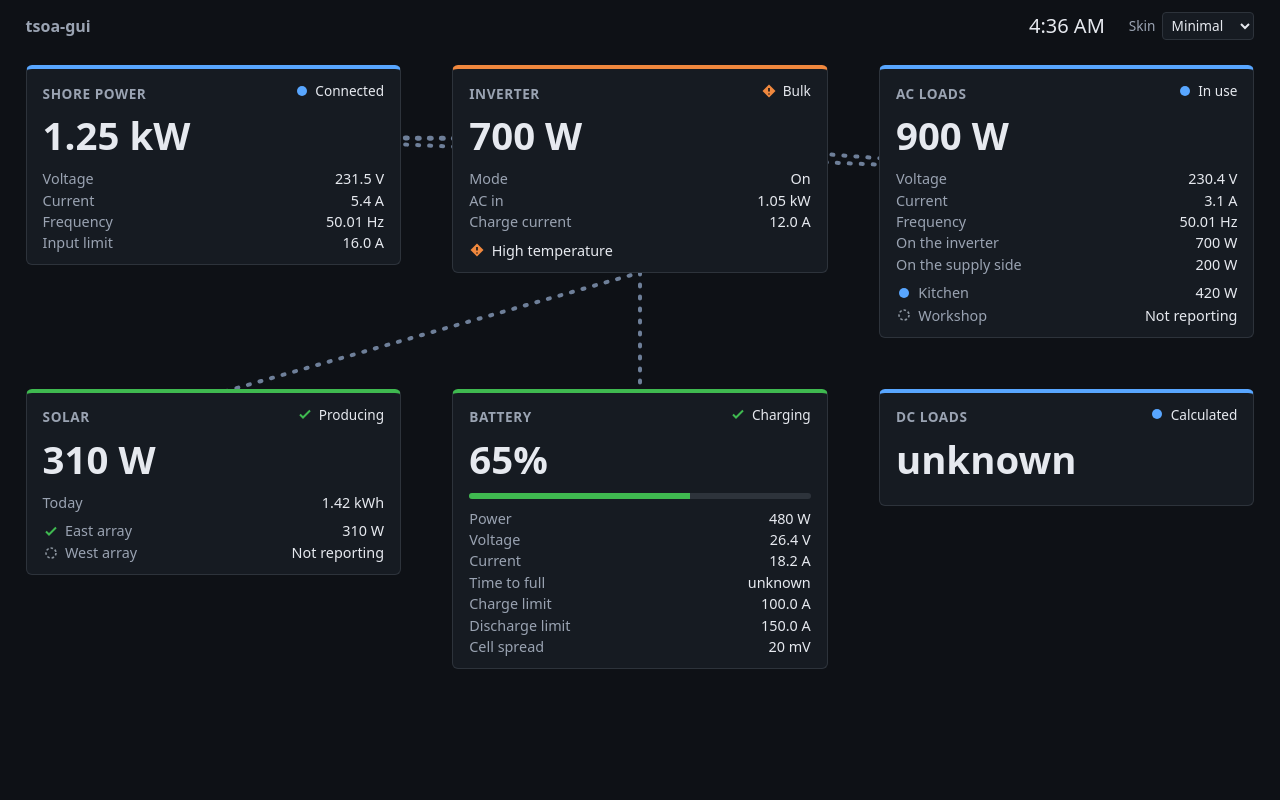
Test case: App › moves the name, the clock and the skin choice into a framed skin's own frame, and switches back from there
The image size is (1280, 800).
Select "Sci-Fi FOF" in the dropdown labelled "Skin": (1208, 26) [1162,12,1254,40]
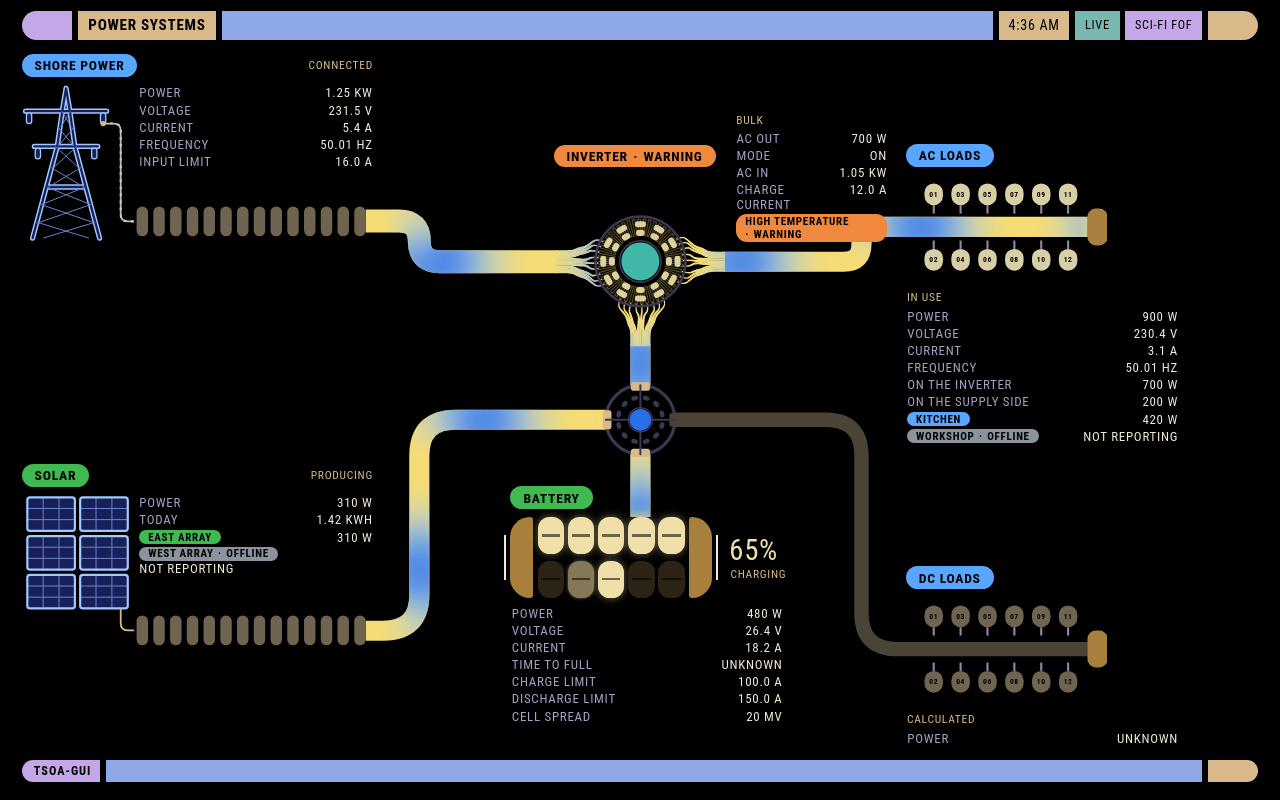
Result: the button with aria-label "Skin: Sci-Fi FOF" reads "Sci-Fi FOF"
Result: the label "Skin" is gone
Result: the number of headings "tsoa-gui" is 1 at [22,760,100,782]
Press ArrowDown in the button with aria-label "Skin: Sci-Fi FOF", box [1125,11,1202,40]
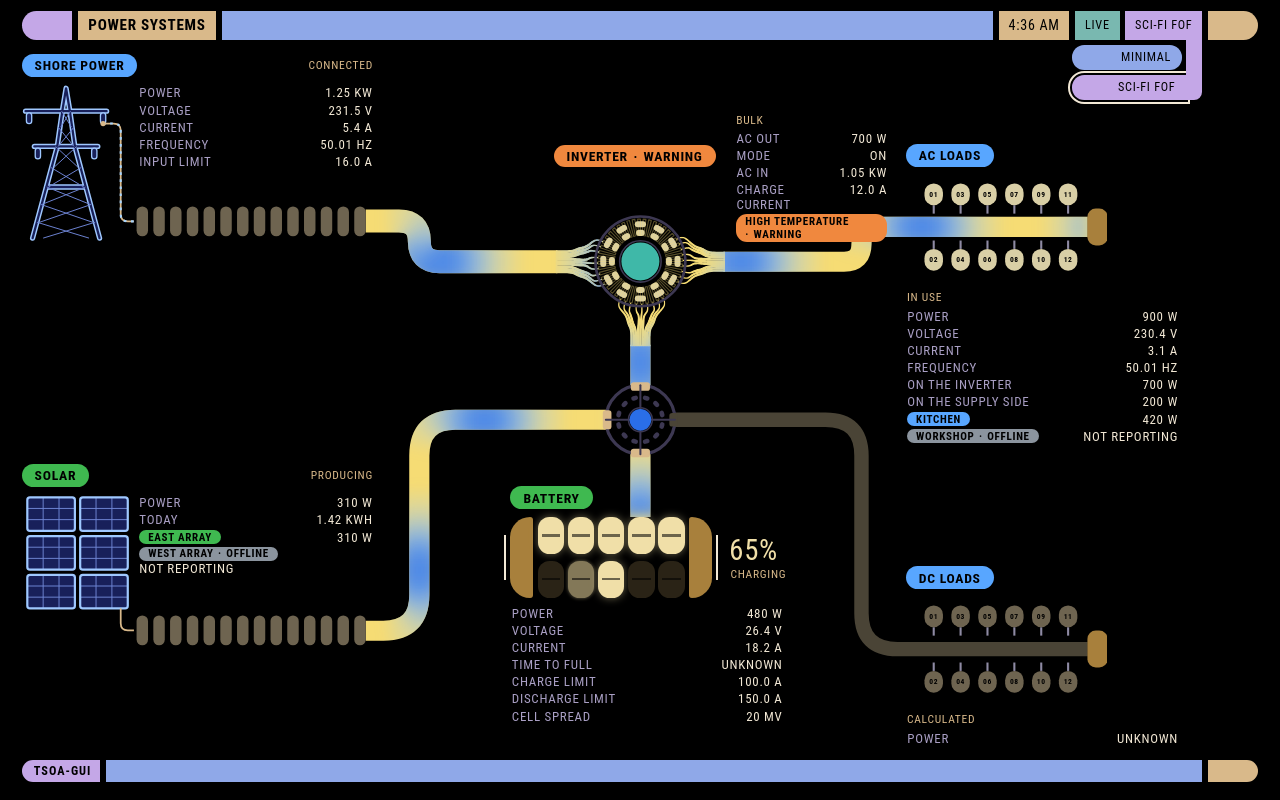
Press ArrowUp in the list named "Skin", box [1072,40,1186,100]
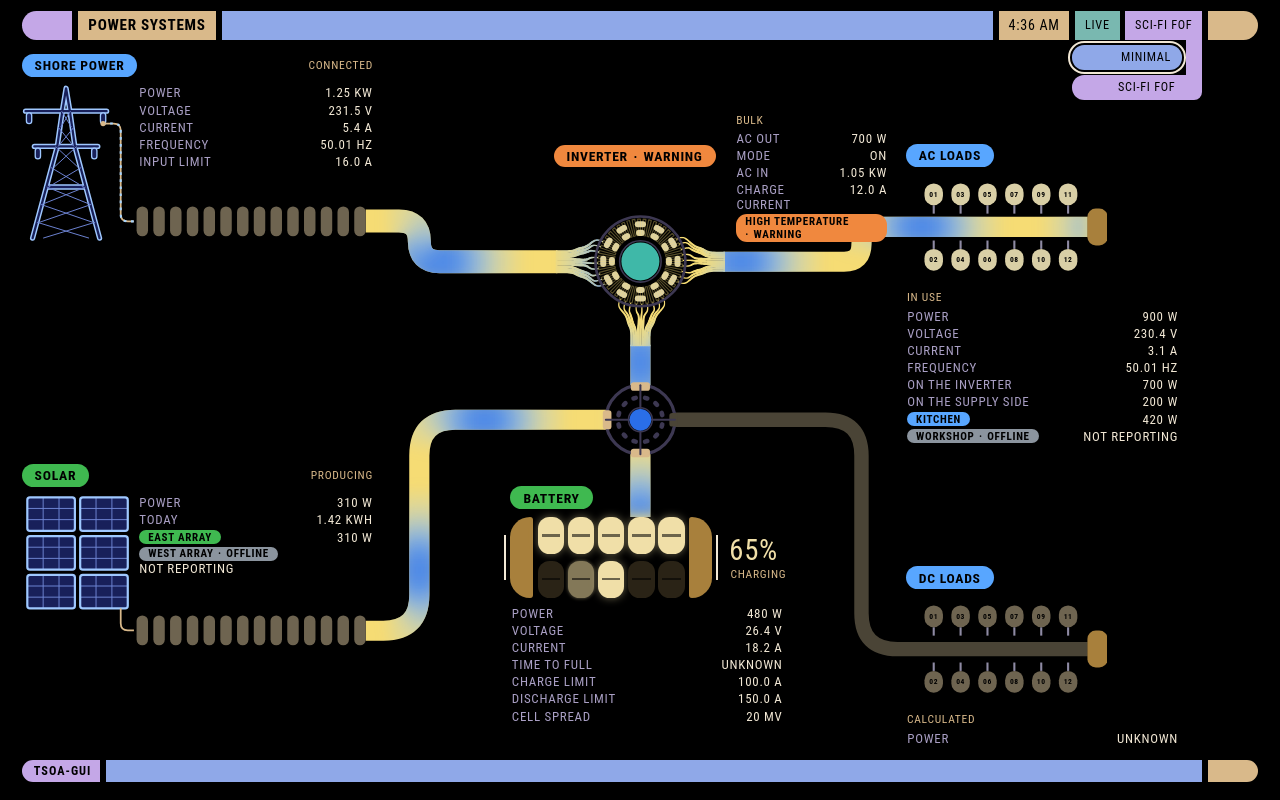
Press Enter in the list named "Skin", box [1072,40,1186,100]
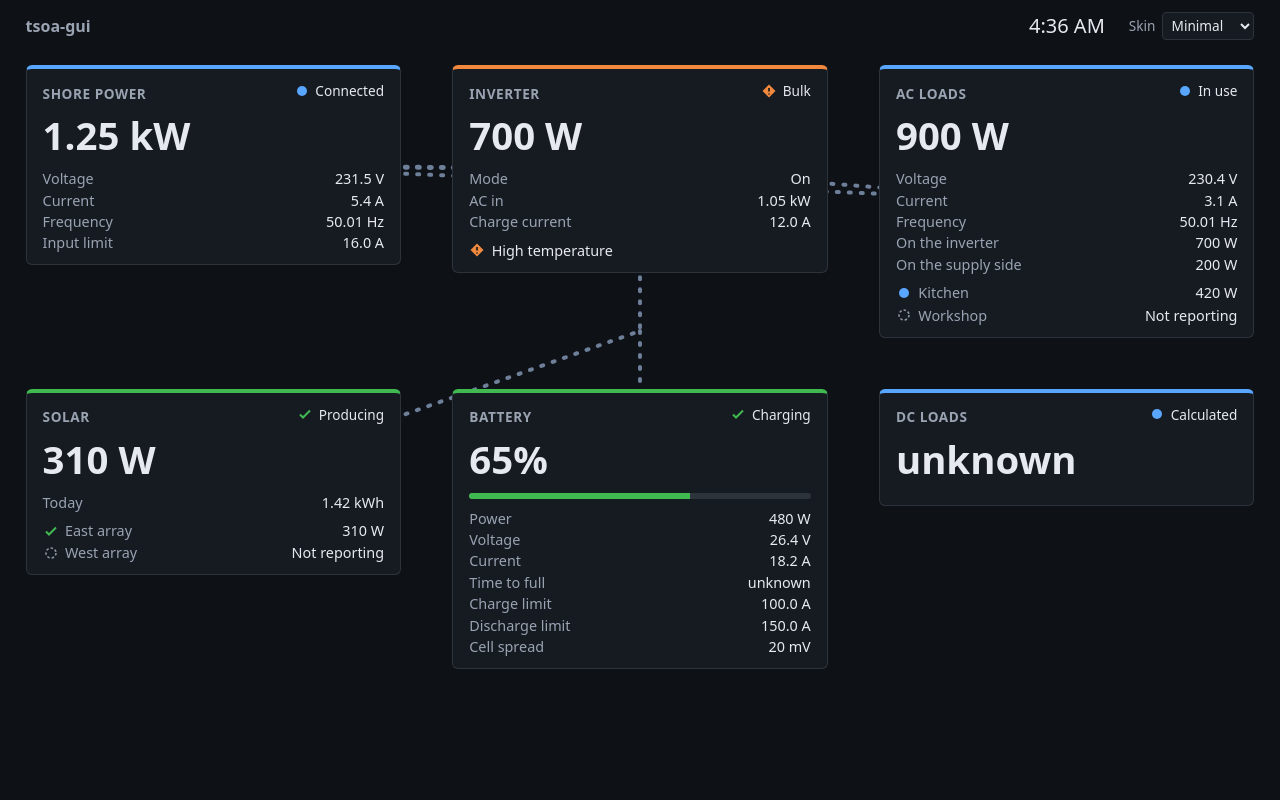
Result: the dropdown labelled "Skin" shows "Minimal" at [1162,12,1254,40]
